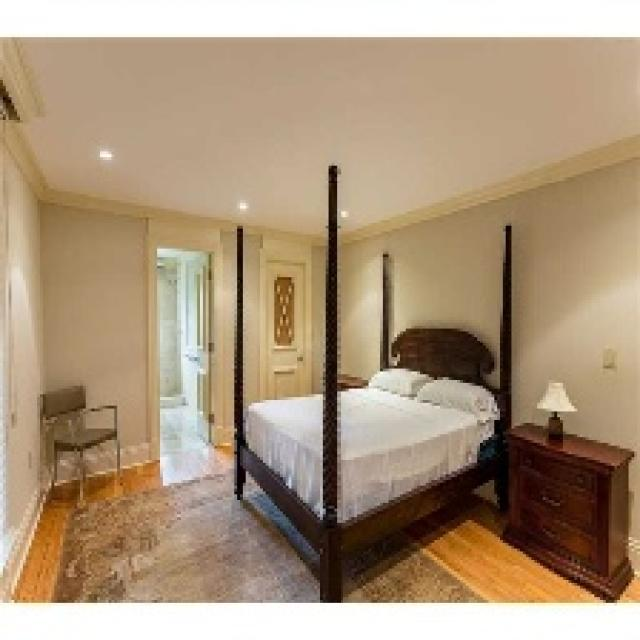Bed: (232, 163, 512, 600)
